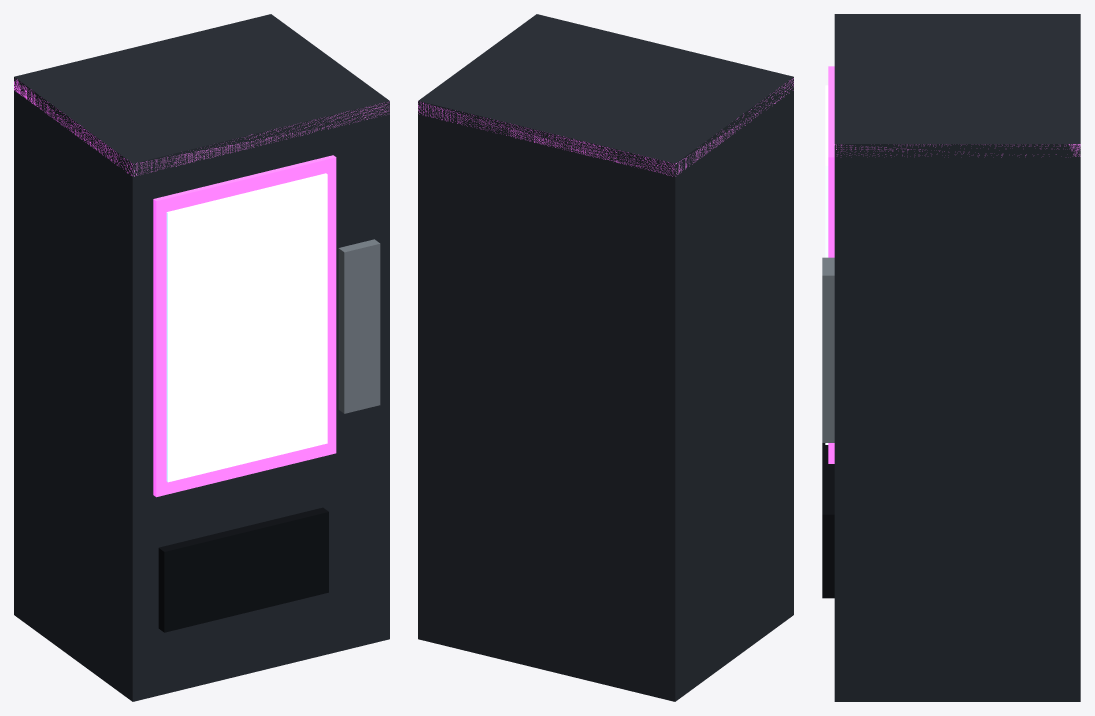
File: nc_vending.glb
3 views of the same model, side by side, from view 1: azimuth 30°, elevation 25°; view 2: azimuth 150°, elevation 25°; view 3: azimuth 270°, elevation 25° (orthographic). The views are drawn at different scales.
Visible parts, largest first — view 1: nc_vending; view 2: nc_vending; view 3: nc_vending.
Part boxes in pixels (x1,y1,x2,y2): nc_vending: (14,14,389,701); nc_vending: (418,14,793,701); nc_vending: (822,14,1080,701).
Size of the model in its own units: 1 by 2 by 0.84.
